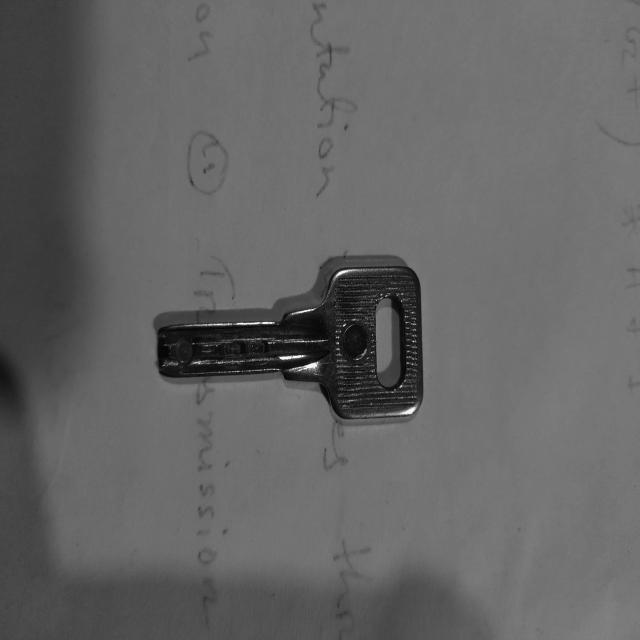KEY: (157, 266, 423, 418)
